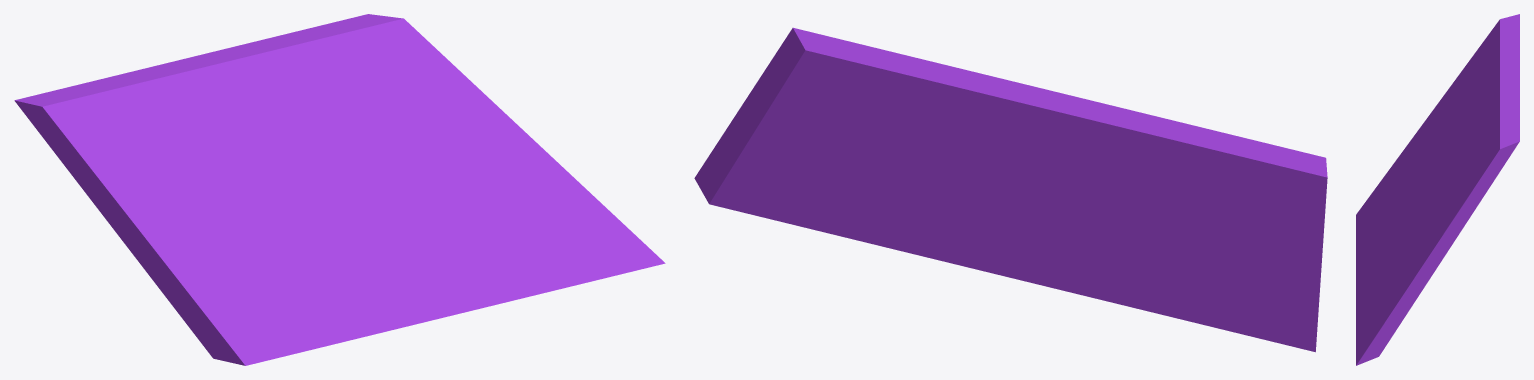
Rendered from Window_132.fbx.
3 renders of one model, left to right at view 1: azimuth 30°, elevation 25°; view 2: azimuth 150°, elevation 25°; view 3: azimuth 270°, elevation 25°, orthographic. The views are drawn at different scales.
Parts seen in each view (by area): view 1: Window_132; view 2: Window_132; view 3: Window_132.
Part boxes in pixels (box(x1,y1,x2,y2)): Window_132: box(14, 14, 665, 365); Window_132: box(694, 27, 1327, 352); Window_132: box(1356, 14, 1519, 365).
Size of the model in its own units: 2021 by 763 by 720.
